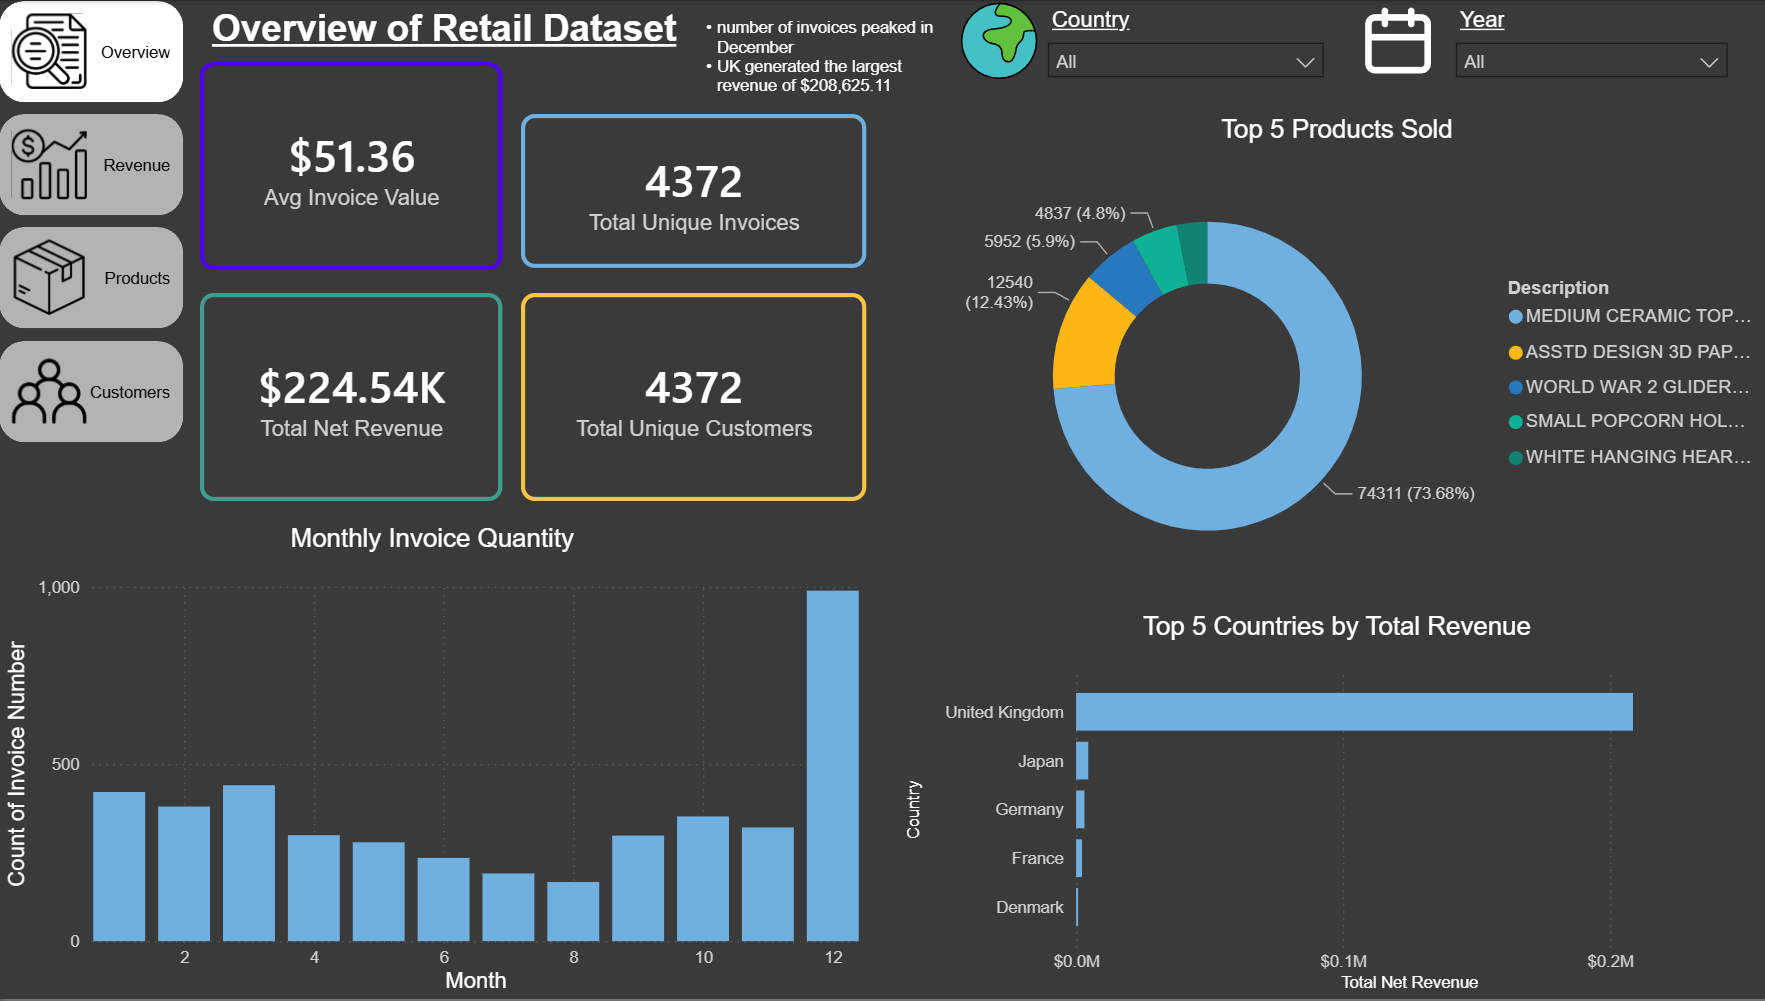

Layout of this report page (visuals, bound fields, positions):
{"tool":"powerbi","page":{"name":"Overview","canvas":[1280,720],"ordinal":0},"visuals":[{"type":"actionButton","box":[0,0,132.8,73.1],"z":0,"group":"g1"},{"type":"cardVisual","fields":{"Data":["Invoice.Total Revenue"]},"box":[144.6,210.7,217.9,149.9],"z":0},{"type":"cardVisual","fields":{"Data":["Invoice.Total Invoices"]},"box":[376.4,81.5,248.8,111.1],"z":1000},{"type":"actionButton","box":[0,81.6,132.8,73.1],"z":1000,"group":"g1"},{"type":"actionButton","box":[0,163.3,132.8,73.1],"z":2000,"group":"g1"},{"type":"barChart","title":"Top 5 Countries by Total Revenue","fields":{"Category":["Country.Country"],"Y":["Invoice.Total Revenue"]},"box":[649.8,439.8,630.2,280.1],"z":2000},{"type":"donutChart","title":"Top 5 Products Sold ","fields":{"Category":["Product.Description"],"Y":["Invoice.Total Units Sold"]},"box":[649.7,81.5,630.3,346.1],"z":3000},{"type":"actionButton","box":[0,244.9,132.8,73.1],"z":3000,"group":"g1"},{"type":"cardVisual","fields":{"Data":["Invoice.Avg Invoice Value"]},"box":[144.6,43.8,217.9,149.9],"z":4000},{"type":"lineStackedColumnComboChart","title":"Monthly Invoice Quantity","fields":{"Category":["Date.Month"],"Y":["Count(Invoice.Invoice Number)"]},"box":[0,376.3,624.9,343.6],"z":5000},{"type":"textbox","box":[148.5,0,352.1,42.5],"z":6000},{"type":"cardVisual","fields":{"Data":["Customer.Unique Customers"]},"box":[376.3,210.7,248.7,149.9],"z":7000},{"type":"group","id":"g1","title":"Group 1","box":[0,0,132.8,318],"z":8000},{"type":"group","id":"g2","title":"Group 2","box":[691.6,0,273.3,57],"z":9000},{"type":"slicer","fields":{"Values":["Country.Country"]},"box":[746.4,0,218.6,56.9],"z":9000,"group":"g2"},{"type":"group","id":"g3","title":"Group 3","box":[976.4,0,279.8,57],"z":10000},{"type":"slicer","fields":{"Values":["Date.Year"]},"box":[1040.6,0,215.6,57],"z":10000,"group":"g3"},{"type":"textbox","box":[494.7,7.2,185.3,72.8],"z":10001},{"type":"image","box":[691.6,0,59.9,57],"z":12000,"group":"g2"},{"type":"image","box":[976.4,0,64.2,57],"z":12002,"group":"g3"}]}

Visuals, with their boxes in screenshot pixels (x1, y1, x2, y2), scaled from the page's 1280x720 canvas onto the 1765x1001 screenshot:
actionButton: region(0, 0, 183, 102)
cardVisual - Invoice.Total Revenue: region(199, 293, 500, 501)
cardVisual - Invoice.Total Invoices: region(519, 113, 862, 268)
actionButton: region(0, 113, 183, 215)
actionButton: region(0, 227, 183, 329)
"Top 5 Countries by Total Revenue" barChart: region(896, 611, 1764, 1000)
"Top 5 Products Sold " donutChart: region(896, 113, 1764, 594)
actionButton: region(0, 340, 183, 442)
cardVisual - Invoice.Avg Invoice Value: region(199, 61, 500, 269)
"Monthly Invoice Quantity" lineStackedColumnComboChart: region(0, 523, 862, 1000)
textbox: region(205, 0, 690, 59)
cardVisual - Customer.Unique Customers: region(519, 293, 862, 501)
"Group 1" group: region(0, 0, 183, 442)
"Group 2" group: region(954, 0, 1331, 79)
slicer - Country.Country: region(1029, 0, 1331, 79)
"Group 3" group: region(1346, 0, 1732, 79)
slicer - Date.Year: region(1435, 0, 1732, 79)
textbox: region(682, 10, 938, 111)
image: region(954, 0, 1036, 79)
image: region(1346, 0, 1435, 79)
